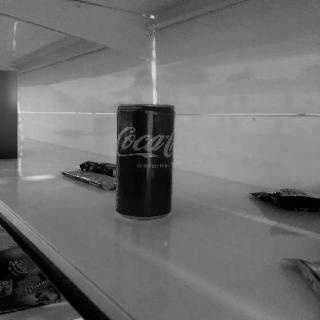alumunium_can: (115, 101, 177, 221)
